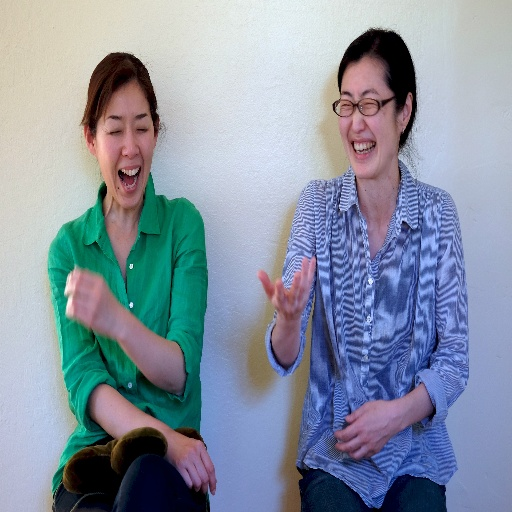hand: (263, 251, 323, 365), (61, 263, 123, 338), (331, 396, 396, 460), (165, 432, 218, 498)
